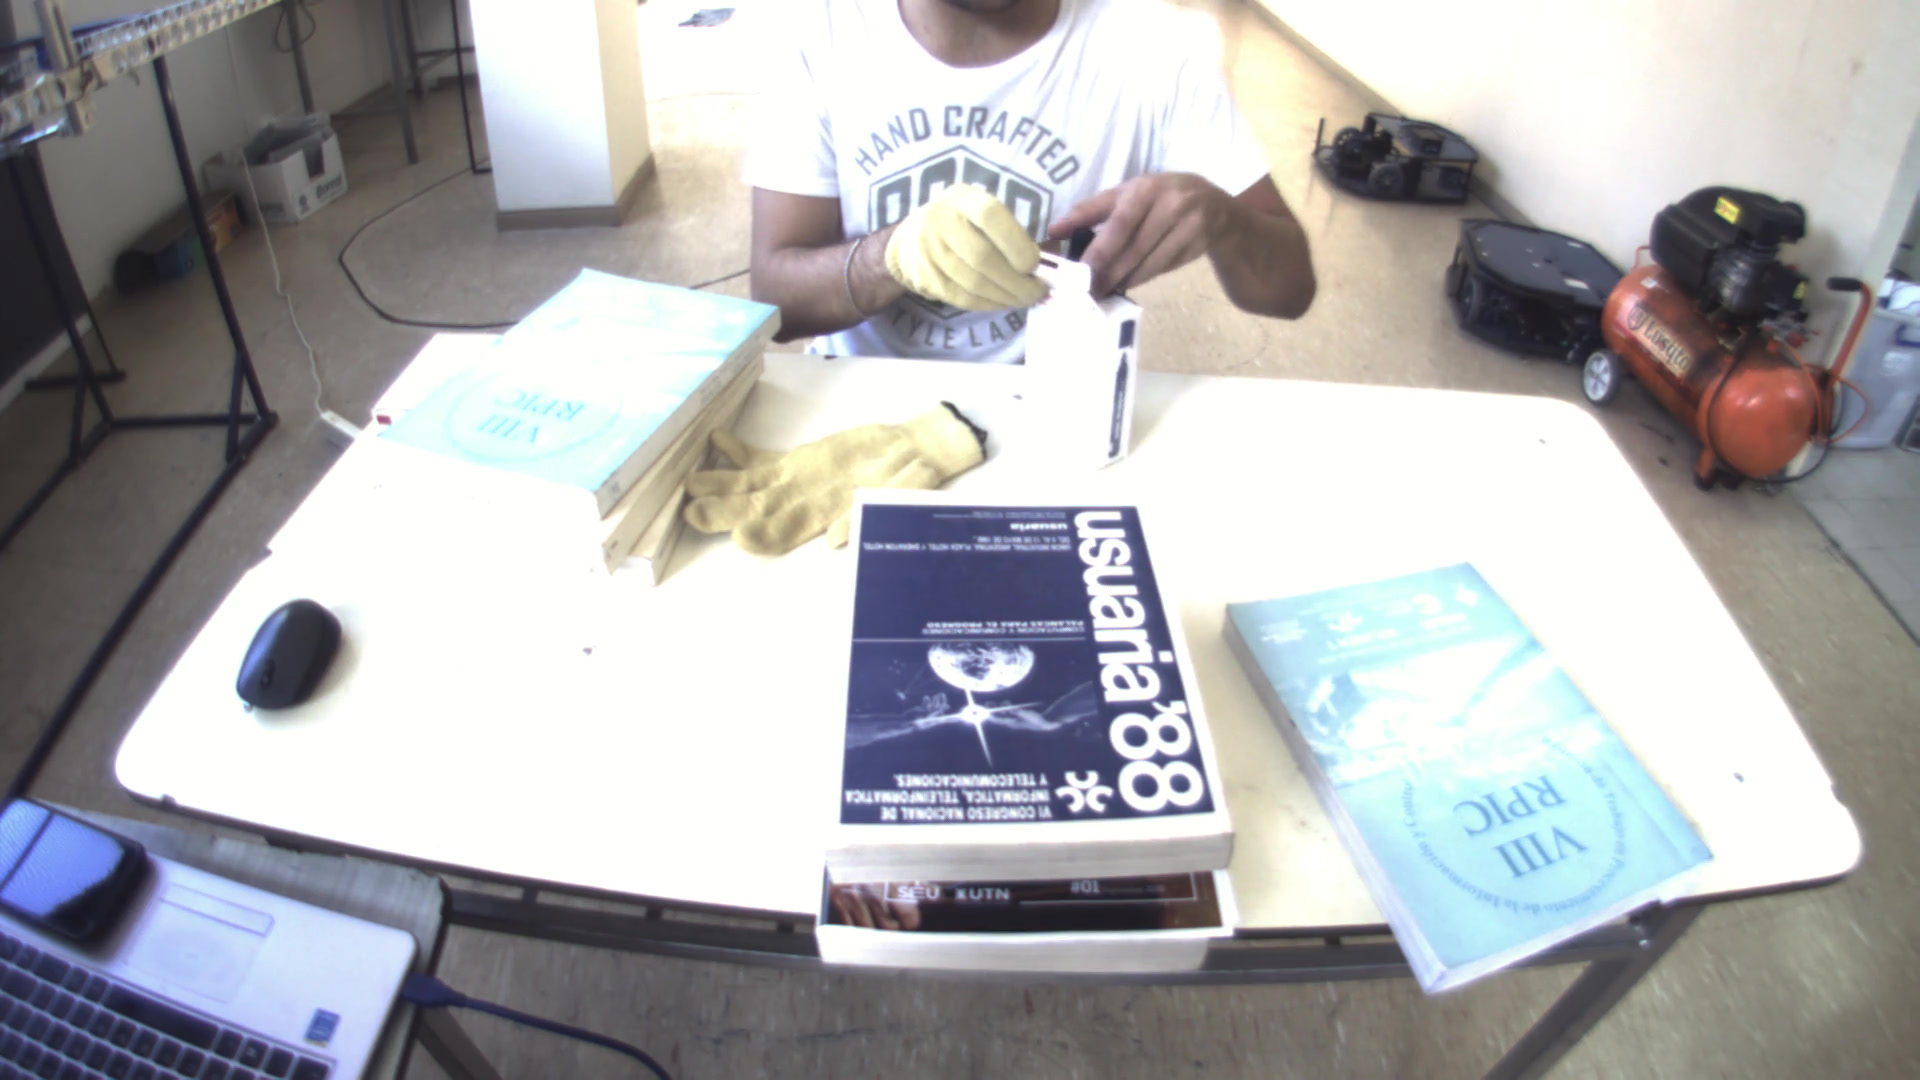hand: (1042, 154, 1222, 301), (874, 179, 1054, 316)
